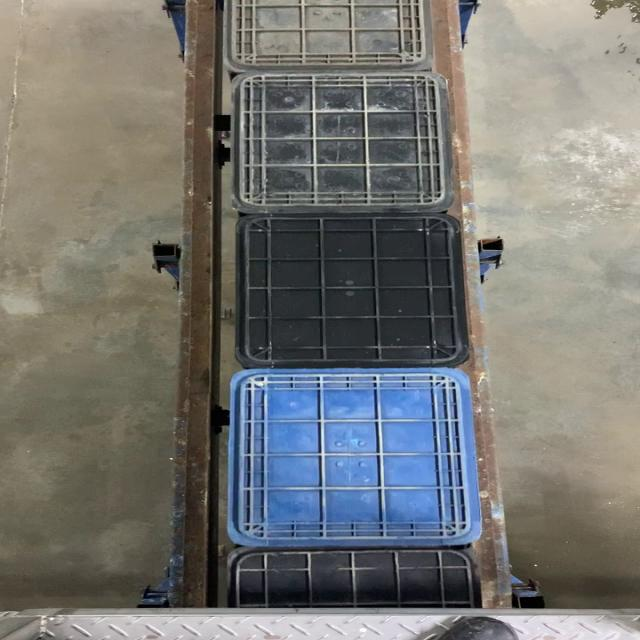Box: (224, 365, 482, 547), (231, 212, 474, 368), (229, 70, 459, 212)
